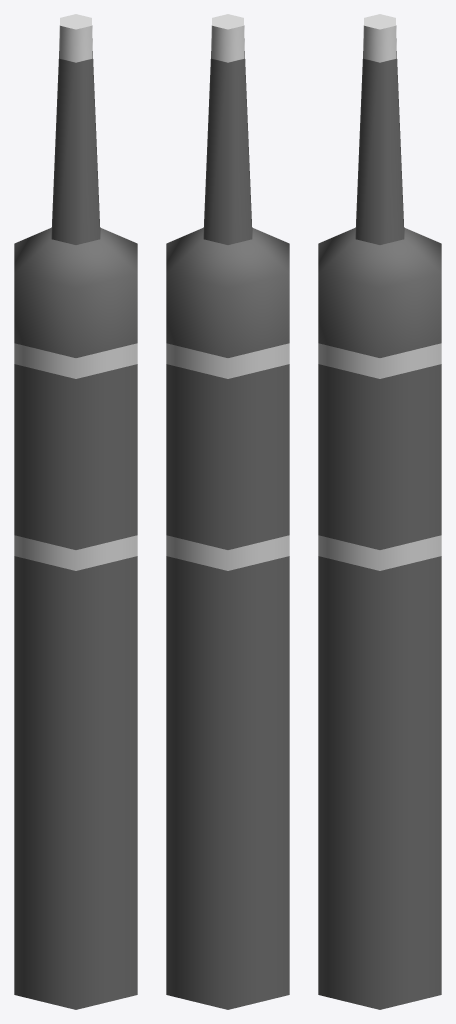
Rendered from antenna_006.fbx.
The picture shows the model from 3 angles, left to right: view 1: azimuth 90°, elevation 25°; view 2: azimuth 150°, elevation 25°; view 3: azimuth 270°, elevation 25°; orthographic projection.
Visible parts, largest first — view 1: antenna_006; view 2: antenna_006; view 3: antenna_006.
Part boxes in pixels (x1,y1,x2,y2): antenna_006: (14,14,137,1009); antenna_006: (166,14,289,1009); antenna_006: (318,14,441,1009).
Size of the model in its own units: 62.83 by 54.41 by 467.
